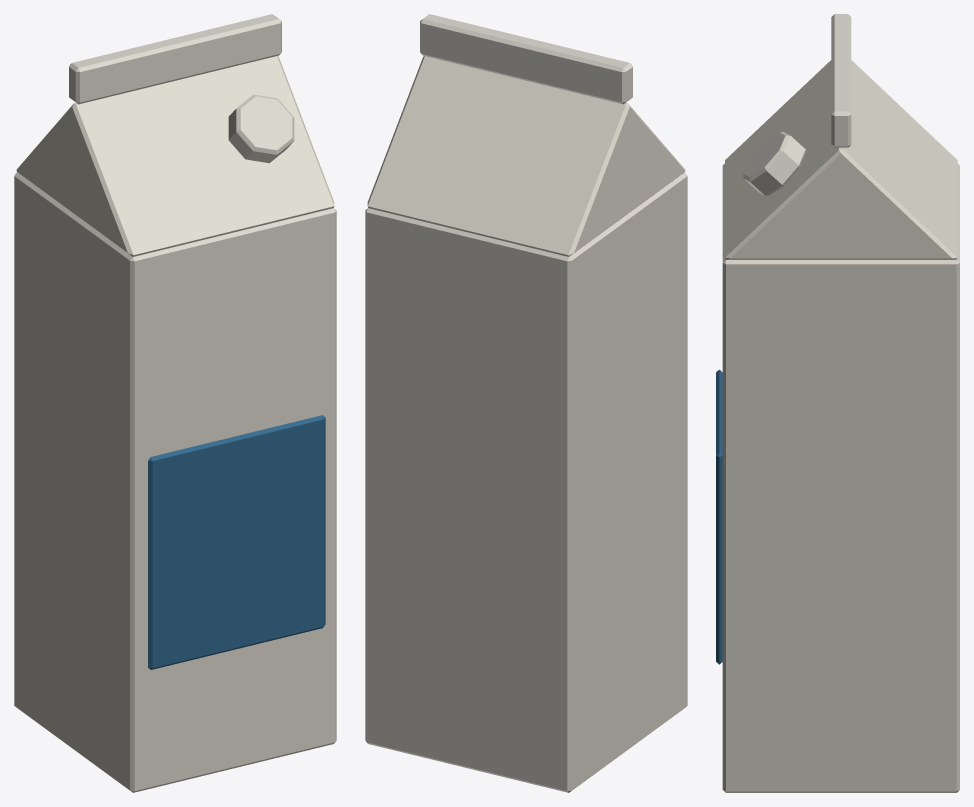
File: b16_gable_top_milk_carton.glb
The picture shows the model from 3 angles, left to right: view 1: azimuth 30°, elevation 25°; view 2: azimuth 150°, elevation 25°; view 3: azimuth 270°, elevation 25°; orthographic projection.
Parts seen in each view (by area): view 1: b16_gable_top_milk_carton; view 2: b16_gable_top_milk_carton; view 3: b16_gable_top_milk_carton.
Part boxes in pixels (bbox=[...]): b16_gable_top_milk_carton: bbox=[14, 14, 336, 792]; b16_gable_top_milk_carton: bbox=[365, 14, 687, 792]; b16_gable_top_milk_carton: bbox=[716, 14, 959, 792].
Size of the model in its own units: 0.071 by 0.225 by 0.073.
